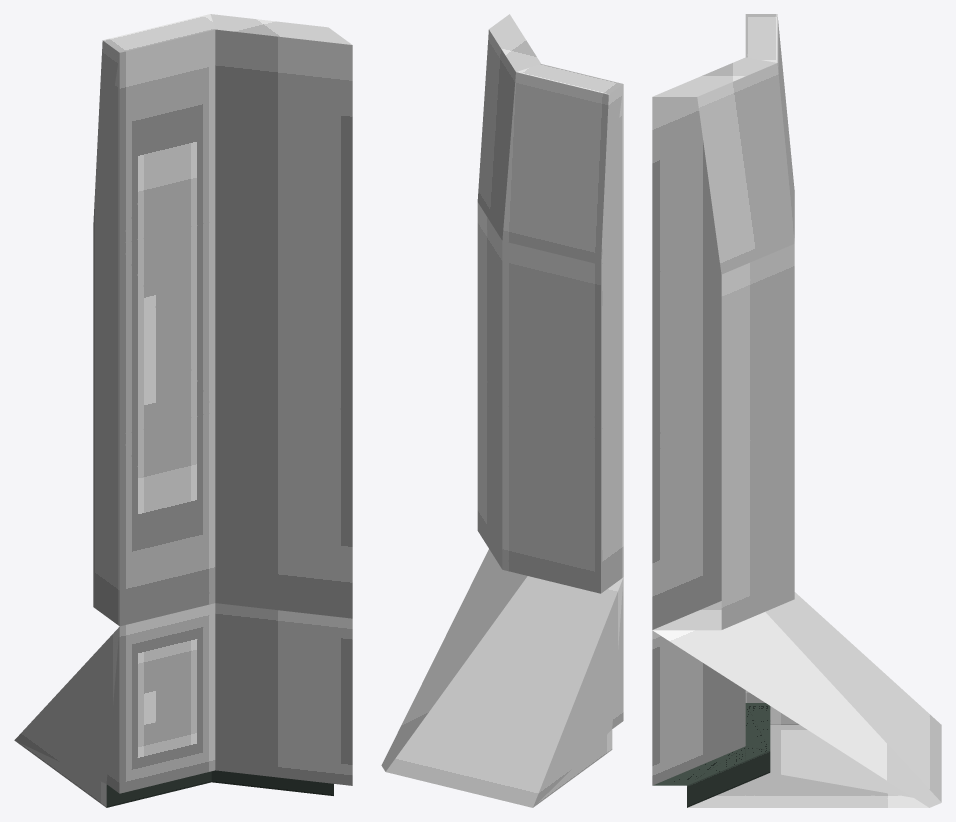
File: run_tall_outside_bend_a_item.obj
3 views of the same model, side by side, from view 1: azimuth 30°, elevation 25°; view 2: azimuth 150°, elevation 25°; view 3: azimuth 270°, elevation 25° (orthographic). The views are drawn at different scales.
Bounding box in the file's own units: 1 × 4 × 1.48.
